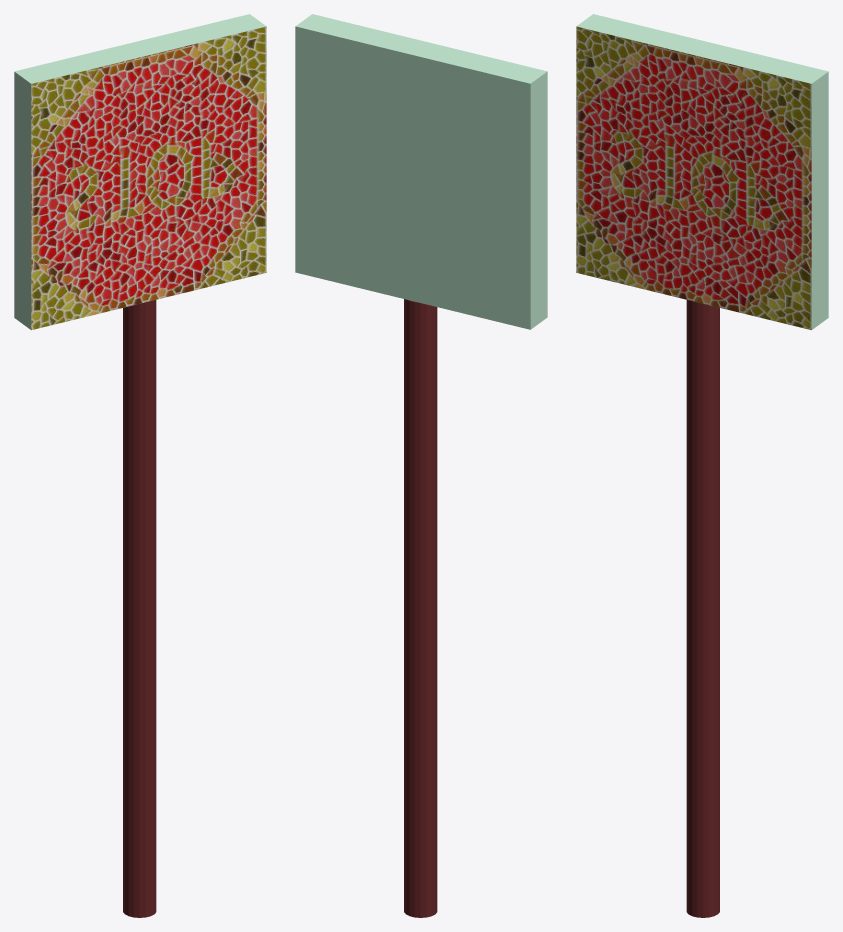
Rendered from znak.dae.
The picture shows the model from 3 angles, left to right: view 1: azimuth 30°, elevation 25°; view 2: azimuth 150°, elevation 25°; view 3: azimuth 330°, elevation 25°; orthographic projection.
Parts seen in each view (by area): view 1: BSD_Material__14, CSD_Material__37, BSD_Material__15; view 2: BSD_Material__15, CSD_Material__37; view 3: BSD_Material__14, CSD_Material__37, BSD_Material__15.
Boxes of the visible parts, x1,y1,x2,y2 form: BSD_Material__14: (31,26,266,329); CSD_Material__37: (123,300,156,917); BSD_Material__15: (14,14,266,329); BSD_Material__15: (295,14,547,329); CSD_Material__37: (404,299,437,917); BSD_Material__14: (576,26,811,329); CSD_Material__37: (686,300,719,917); BSD_Material__15: (576,14,828,329).
Bounding box in the file's own units: 0.2047 × 0.0266 × 0.7165.
